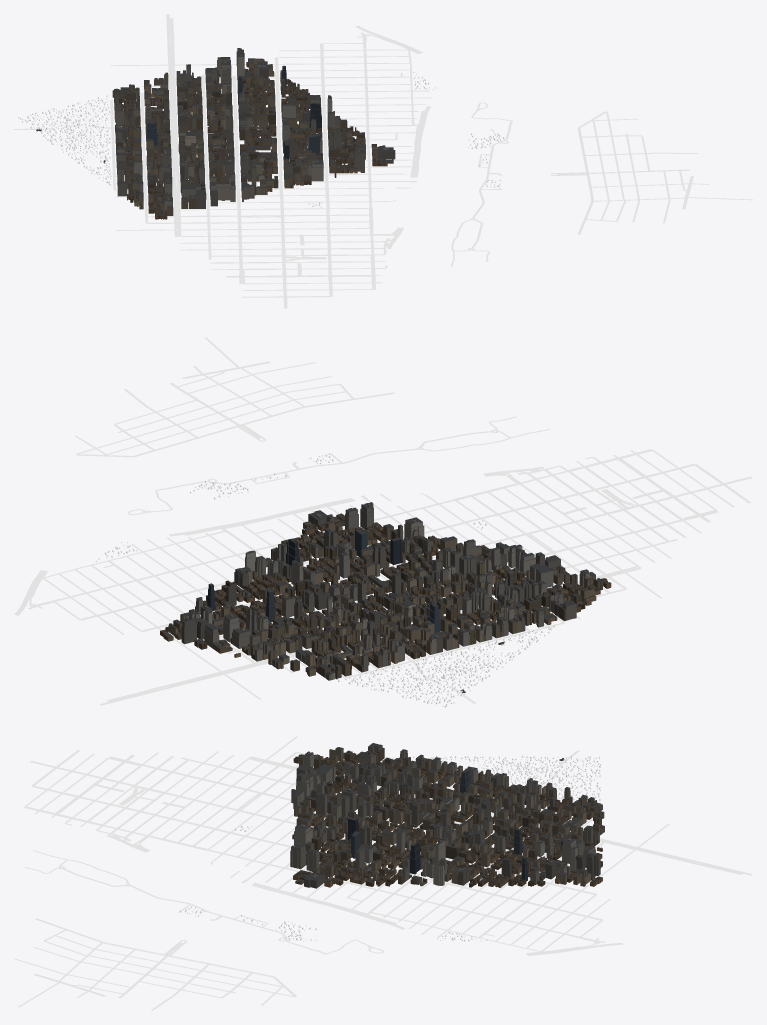
The model's file is manhattan_+00_-01.glb.
3 renders of one model, top to bottom at view 1: azimuth 30°, elevation 25°; view 2: azimuth 150°, elevation 25°; view 3: azimuth 270°, elevation 25°, orthographic. The views are drawn at different scales.
Visible parts, largest first — view 1: ROAD_+00_-01, BLD_midrise_+00_-01, BLD_lowrise_+00_-01, BLD_towers_+00_-01, TREE_+00_-01; view 2: BLD_midrise_+00_-01, ROAD_+00_-01, BLD_lowrise_+00_-01, BLD_towers_+00_-01, TREE_+00_-01; view 3: BLD_midrise_+00_-01, ROAD_+00_-01, BLD_lowrise_+00_-01, BLD_towers_+00_-01, TREE_+00_-01.
Boxes of the visible parts, x1,y1,x2,y2 form: ROAD_+00_-01: (14, 14, 752, 308); BLD_midrise_+00_-01: (112, 57, 395, 215); BLD_lowrise_+00_-01: (36, 58, 393, 219); BLD_towers_+00_-01: (146, 48, 364, 185); TREE_+00_-01: (18, 72, 504, 207); BLD_midrise_+00_-01: (168, 510, 602, 680); ROAD_+00_-01: (14, 337, 752, 705); BLD_lowrise_+00_-01: (160, 513, 611, 693); BLD_towers_+00_-01: (181, 502, 513, 655); TREE_+00_-01: (96, 453, 555, 707); BLD_midrise_+00_-01: (291, 743, 604, 888); ROAD_+00_-01: (14, 736, 752, 1010); BLD_lowrise_+00_-01: (292, 753, 602, 887); BLD_towers_+00_-01: (290, 766, 600, 885); TREE_+00_-01: (180, 755, 601, 941).
Bounding box in the file's own units: 2984 × 145 × 3394.
